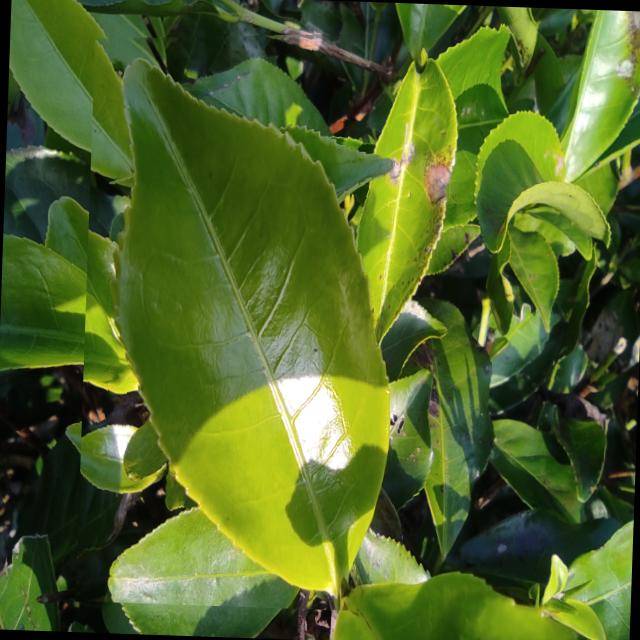Category B(2-4 days): (75, 21, 419, 612)
